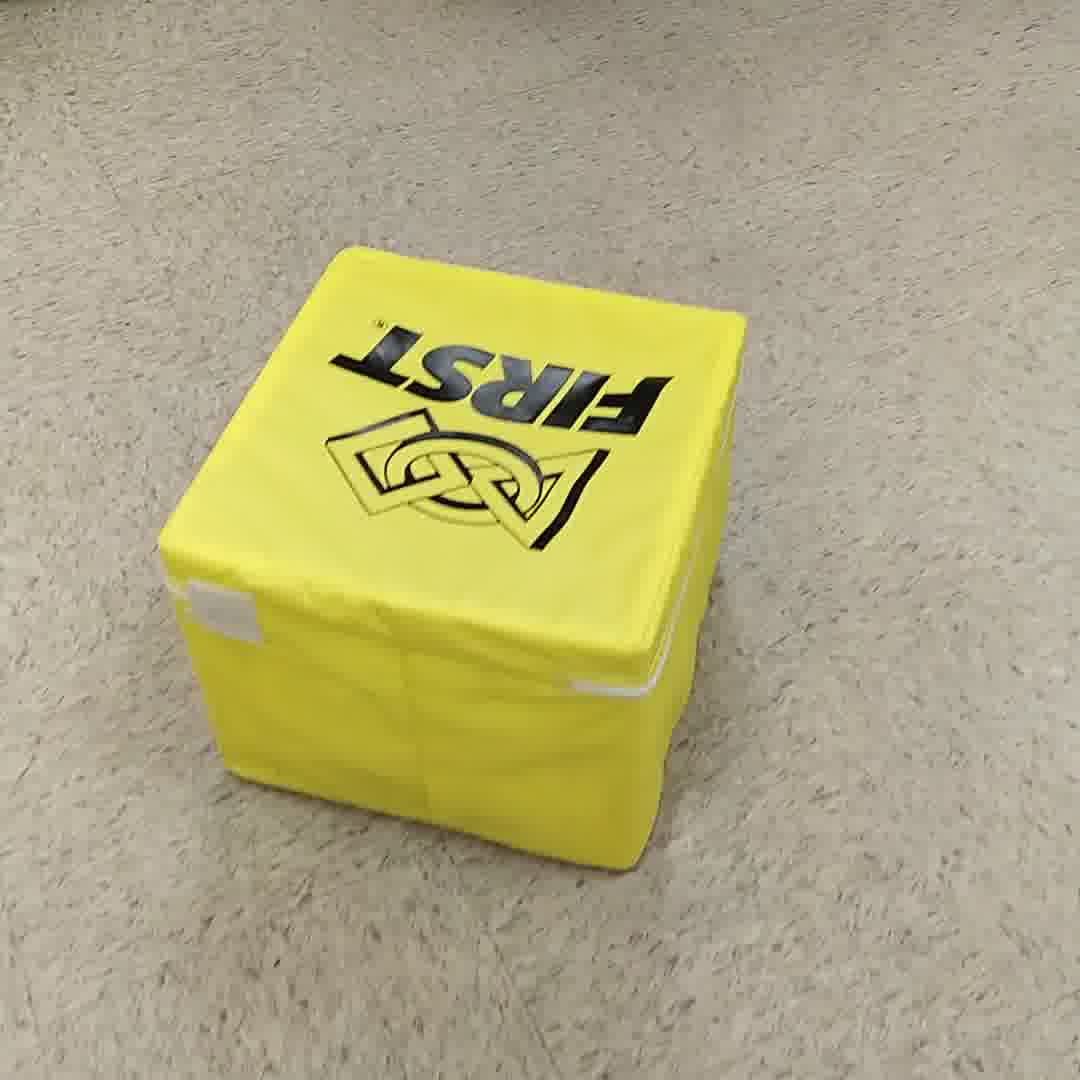box: (159, 235, 757, 895)
